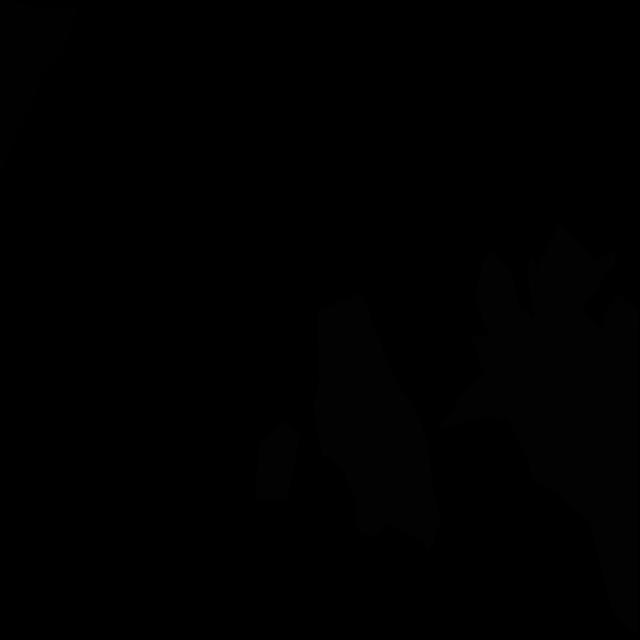cardboard: (439, 223, 638, 637), (313, 292, 442, 555), (254, 420, 300, 502)
rigid_plastic: (0, 0, 78, 176)
